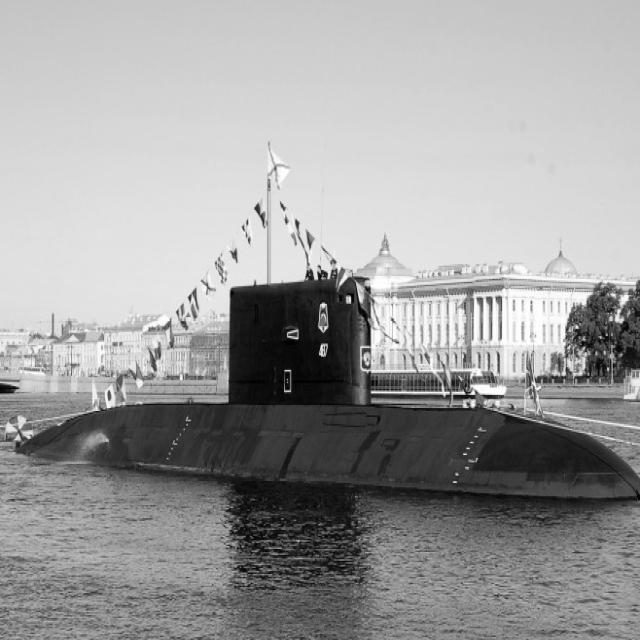submarine: (27, 281, 640, 503)
